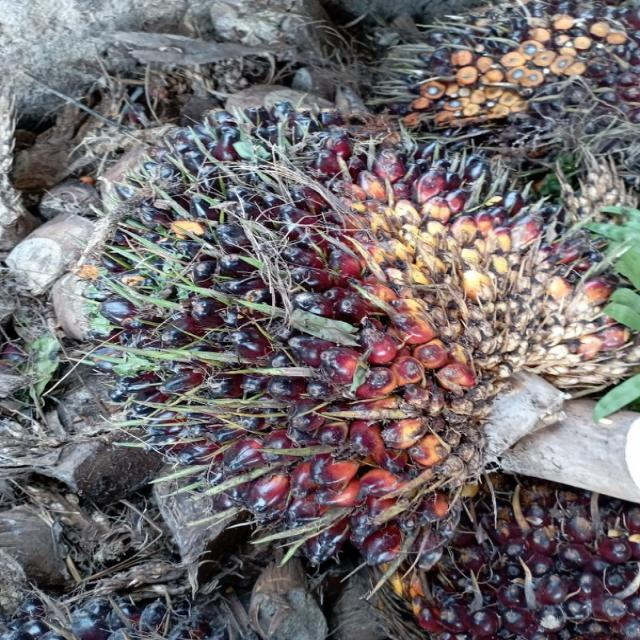fraksi 00: (86, 94, 630, 551)
